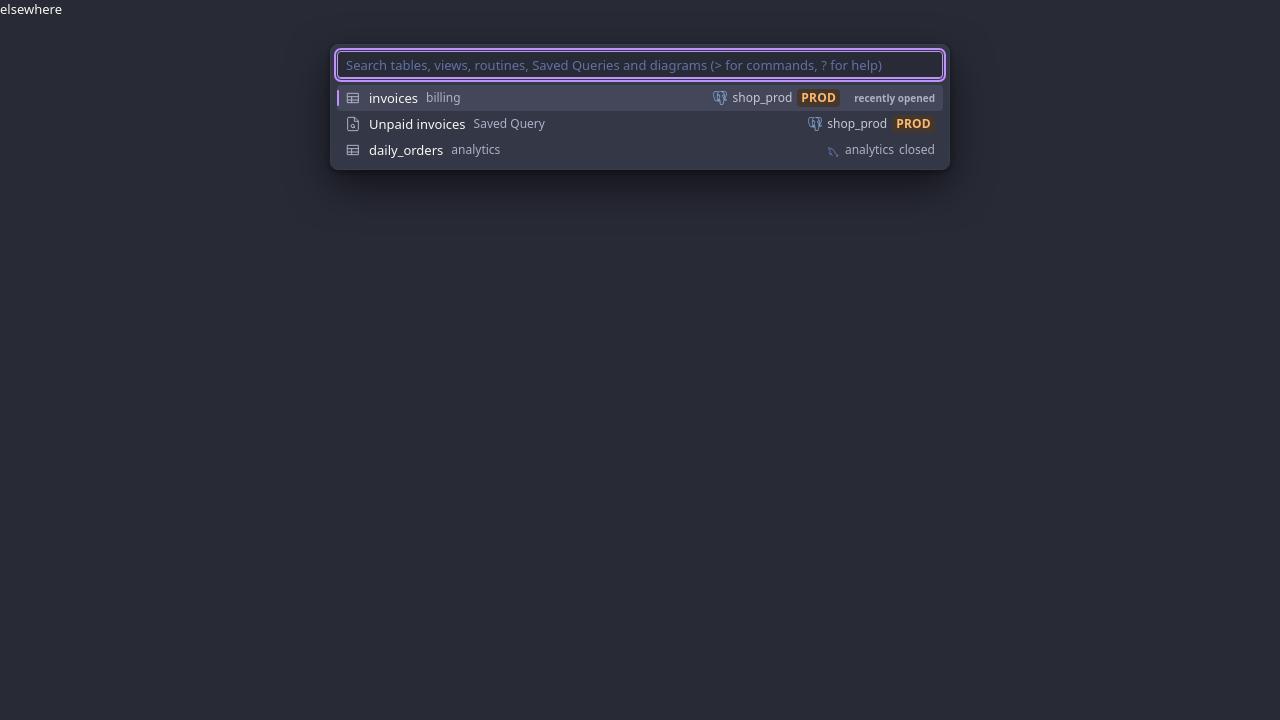
Test: typing_filters_fuzzily_and_marks_the_letters
Replace the text in the dropdown with "inv". click: {"x": 640, "y": 65}
box: [337,51,943,79]
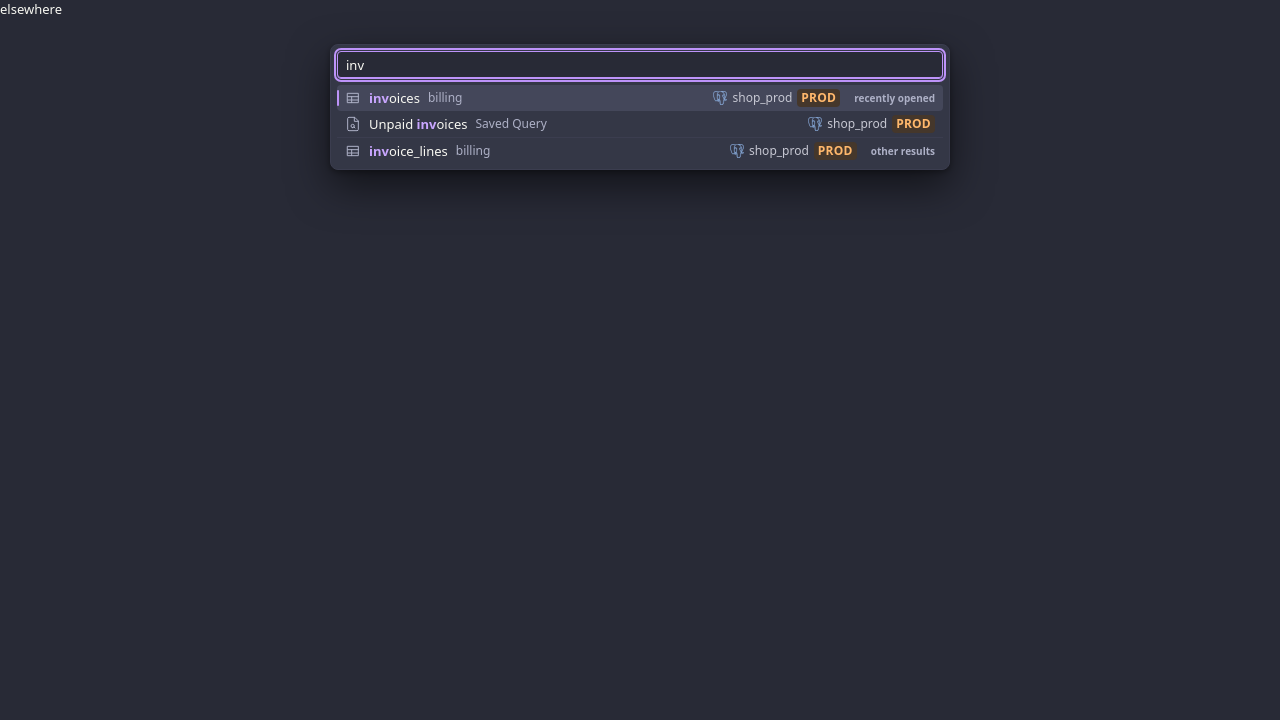
Check: the text "inv" in the row of "recently opened" is shown, box [369,89,389,107]
Check: the option "invoice_lines billing shop_prod PROD other results" is shown, box [337,137,943,163]
